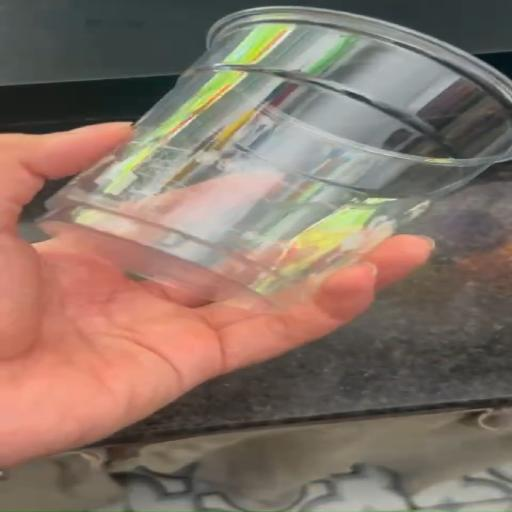ly_nhua: (39, 4, 511, 300)
